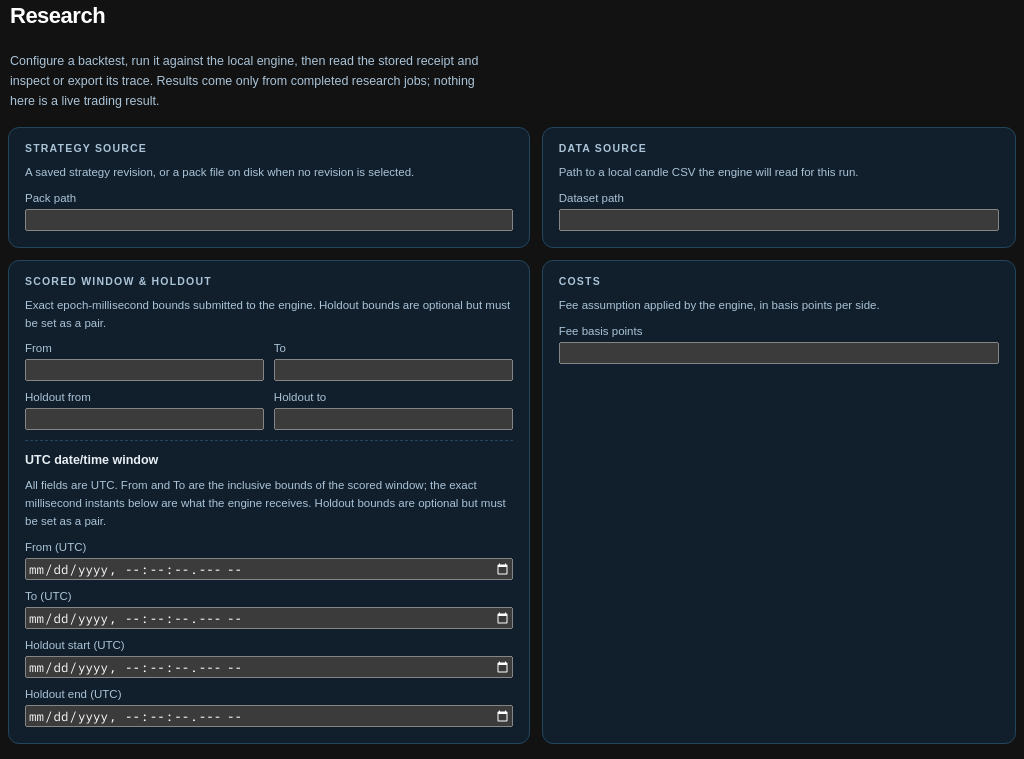
Test: ResearchView holdout bounds (issue149: finite safe integer before submit) › malformed holdout input still refuses with the existing integer message
Type "fixtures/synthetic.csv" into the field labelled "Dataset path" at {"x": 779, "y": 220}, box [559,209,999,231]
Type "40" into the field labelled "Fee basis points" at {"x": 779, "y": 353}, box [559,342,999,364]
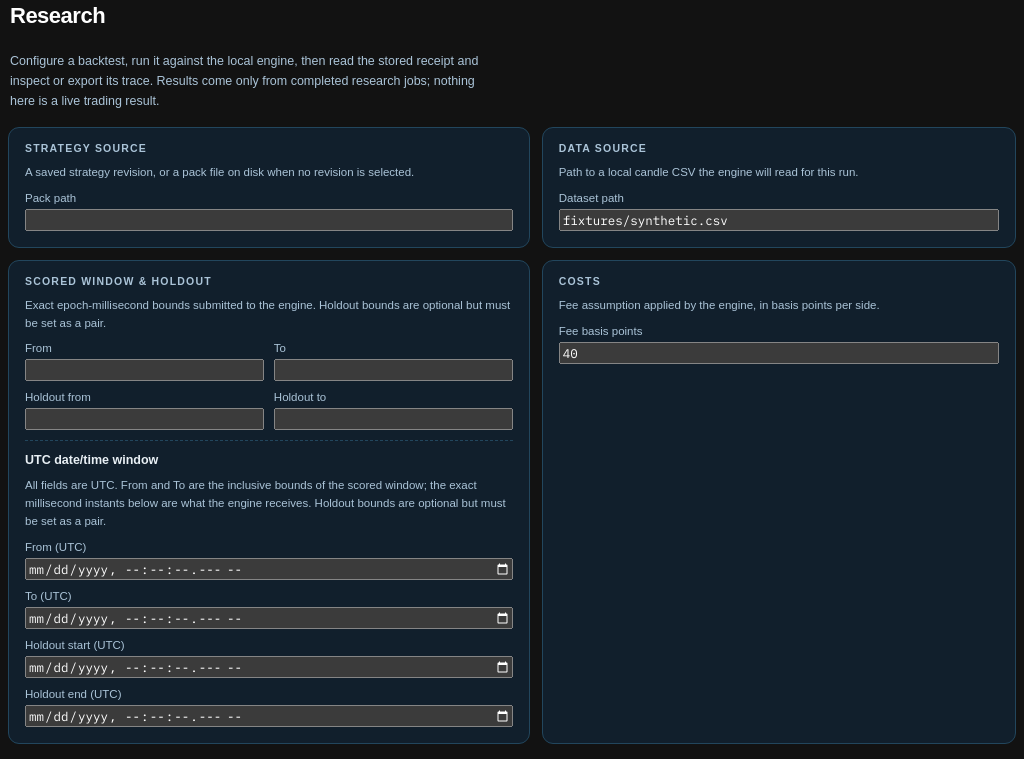
Type "0" into the field labelled "From" at {"x": 144, "y": 370}, box [25,359,264,381]
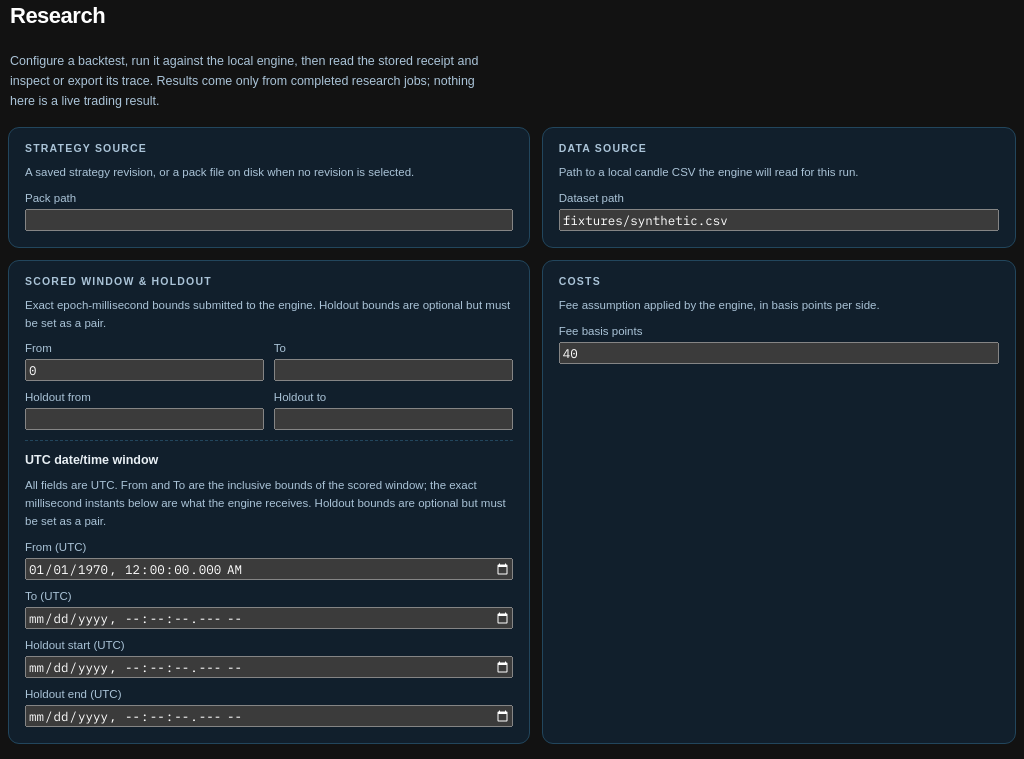
Type "1000" into the field labelled "To" at {"x": 393, "y": 370}, box [274,359,513,381]
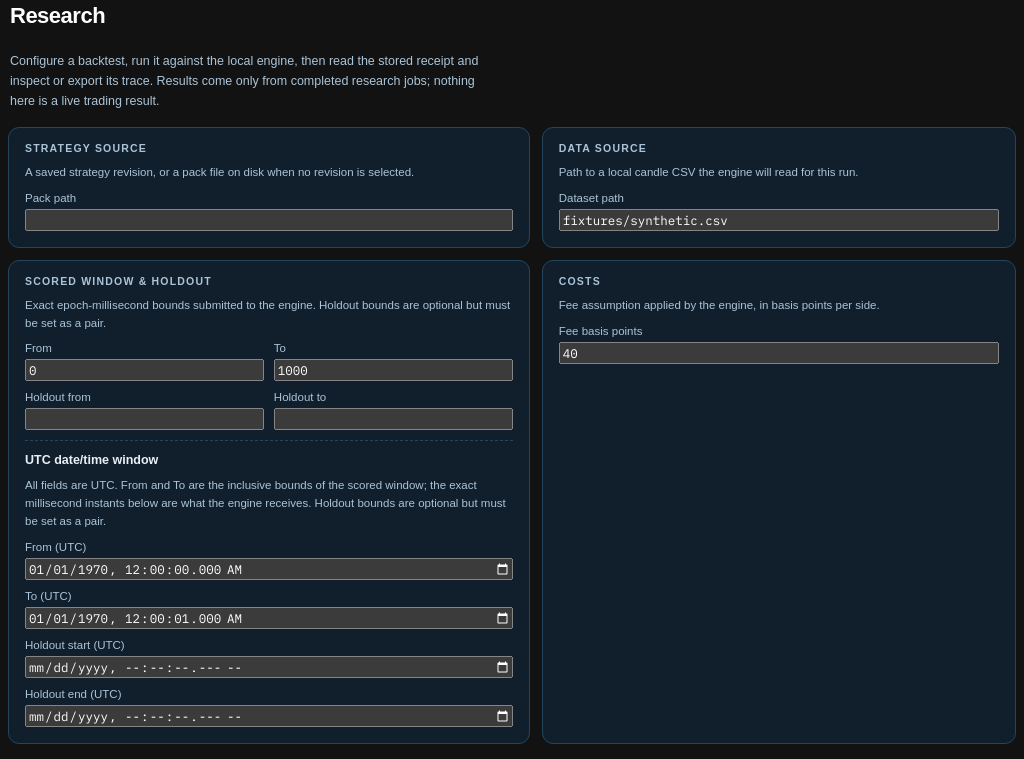
Type "true" into the field labelled "Holdout from" at {"x": 144, "y": 419}, box [25,408,264,430]
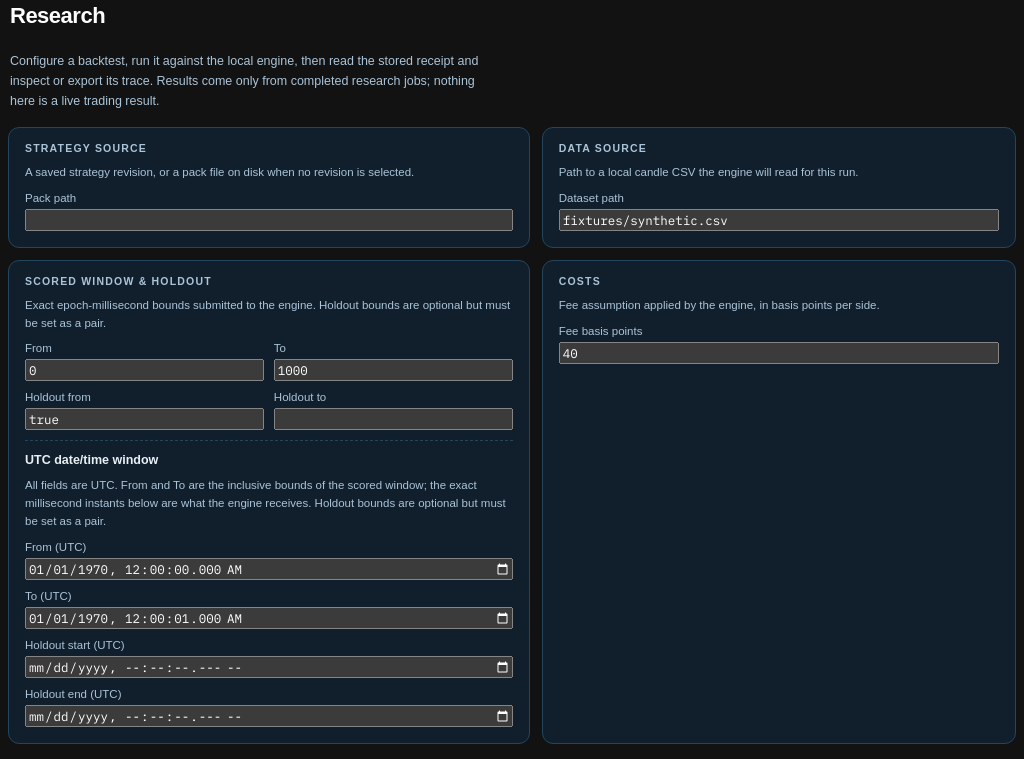
Type "900" into the field labelled "Holdout to" at {"x": 393, "y": 419}, box [274,408,513,430]
(page scrolled)
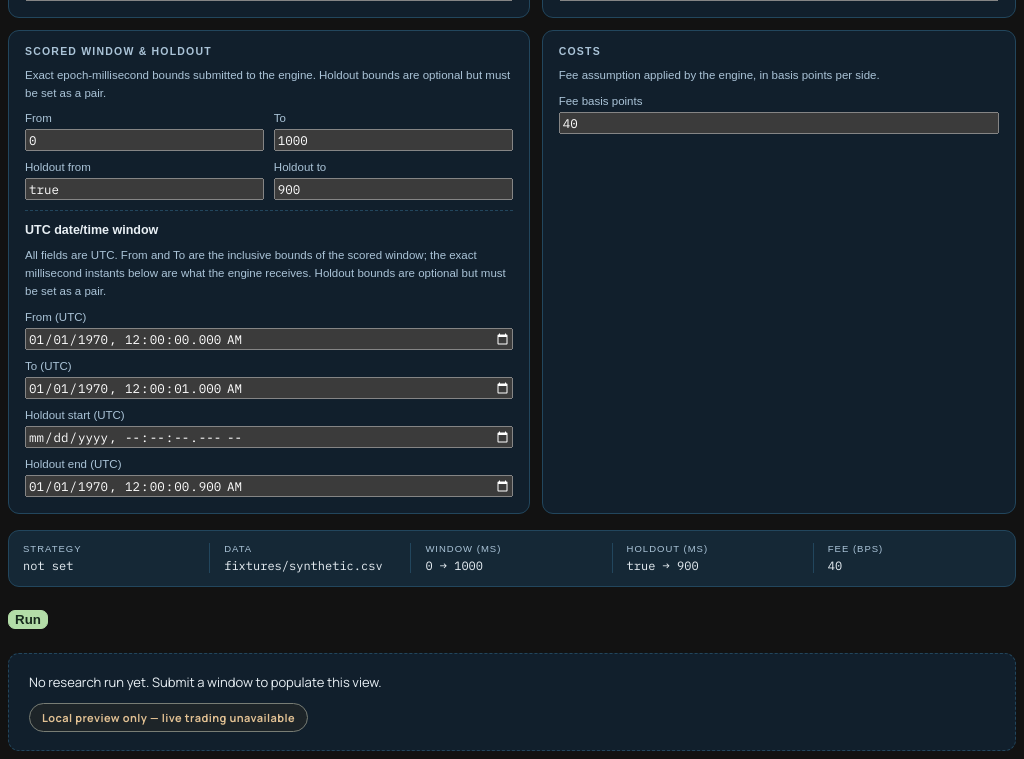
Click the button "Run" at {"x": 28, "y": 620}, box [8,610,48,629]
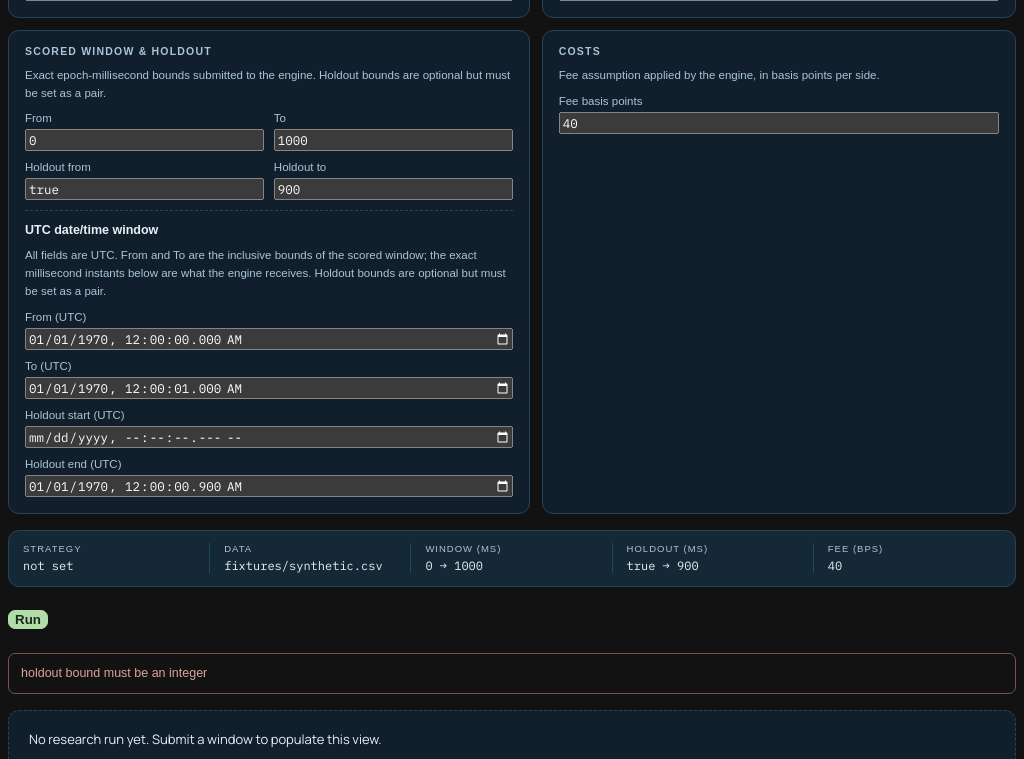
Now the message reads "holdout bound must be an integer", box [21,666,207,680]
